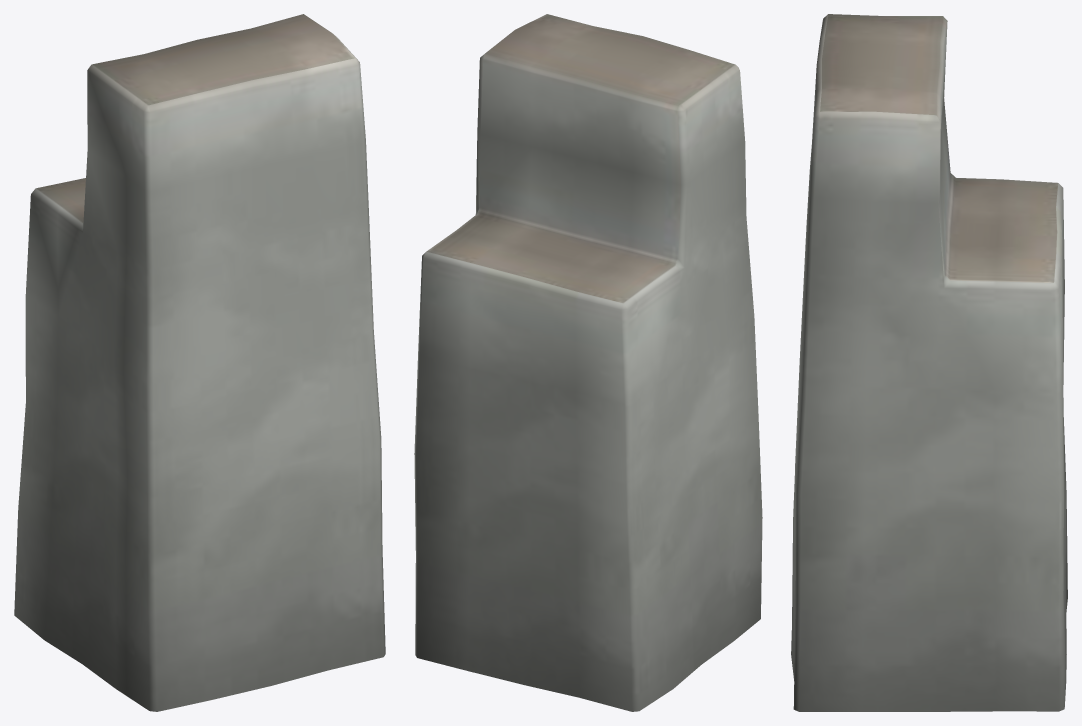
The model's file is MSH_Building_006.glb.
3 views of the same model, side by side, from view 1: azimuth 30°, elevation 25°; view 2: azimuth 150°, elevation 25°; view 3: azimuth 270°, elevation 25° (orthographic). The views are drawn at different scales.
Visible parts, largest first — view 1: Base.014; view 2: Base.014; view 3: Base.014.
Part boxes in pixels (<box>): Base.014: <box>14,14,385,711</box>; Base.014: <box>414,14,762,711</box>; Base.014: <box>791,14,1067,711</box>.
Bounding box in the file's own units: 5.17 × 12.15 × 5.14.
1 material, 1 textured.
